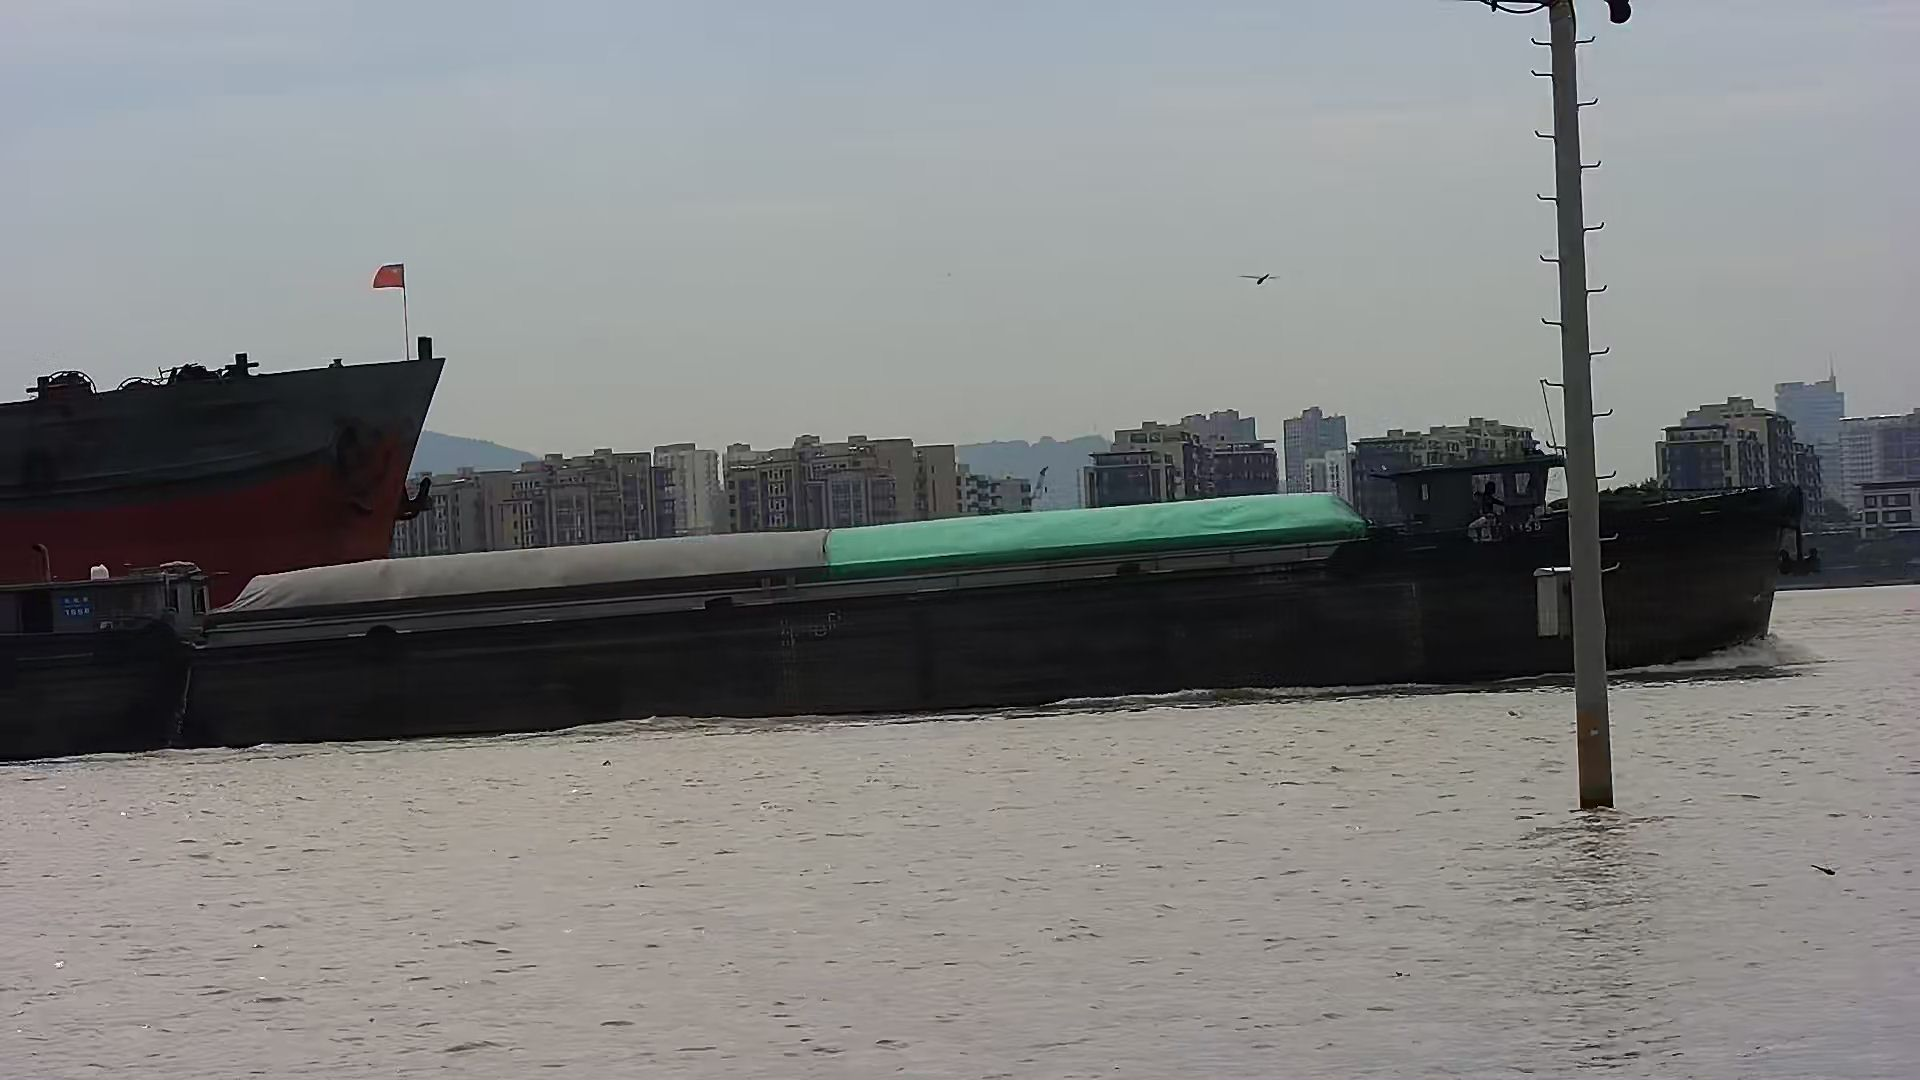mast: (1482, 3, 1633, 808)
ship: (3, 484, 1807, 760), (1, 342, 450, 760)
